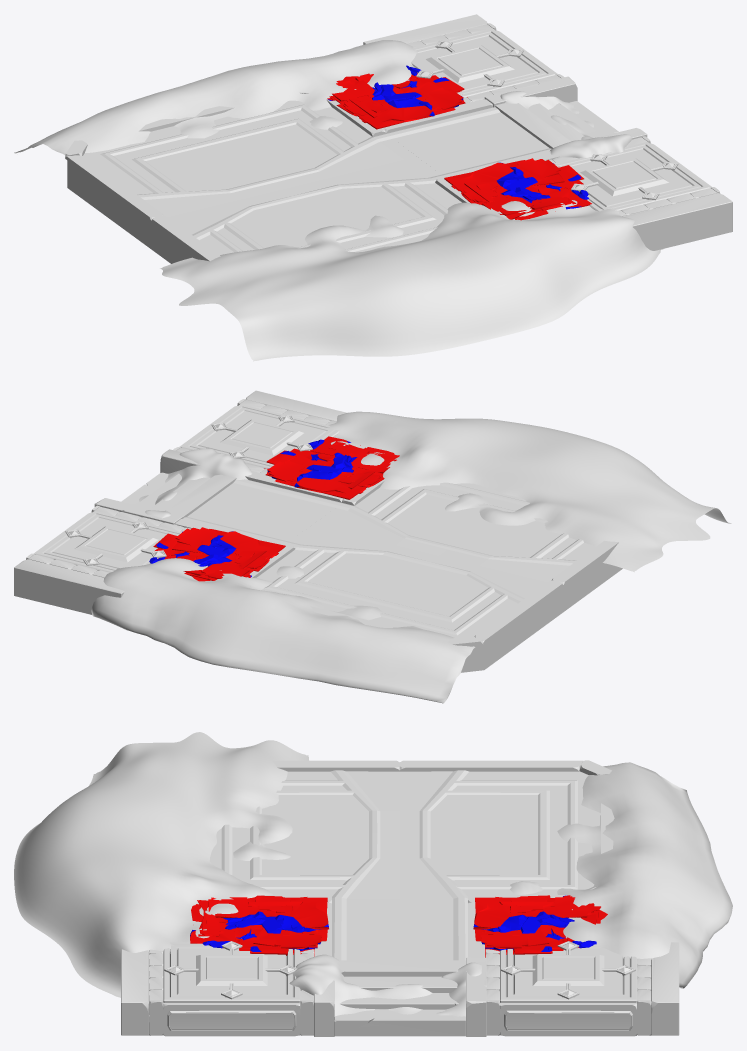
File: SnowBase.fbx
3 views of the same model, one above another, from view 1: azimuth 30°, elevation 25°; view 2: azimuth 150°, elevation 25°; view 3: azimuth 270°, elevation 25° (orthographic). The views are drawn at different scales.
Parts seen in each view (by area): view 1: Stairs, Plane, Cube.005; view 2: Stairs, Plane, Cube.005; view 3: Stairs, Plane, Cube.005.
Part boxes in pixels (left/top/right/bottom): Stairs: left=65, top=14, right=732, bottom=263; Plane: left=14, top=40, right=663, bottom=361; Cube.005: left=327, top=65, right=591, bottom=220; Stairs: left=14, top=390, right=622, bottom=672; Plane: left=91, top=411, right=731, bottom=703; Cube.005: left=149, top=436, right=399, bottom=581; Stairs: left=121, top=760, right=679, bottom=1036; Plane: left=14, top=732, right=732, bottom=1016; Cube.005: left=190, top=895, right=607, bottom=957.
Size of the model in its own units: 998 by 92.8 by 1095.
